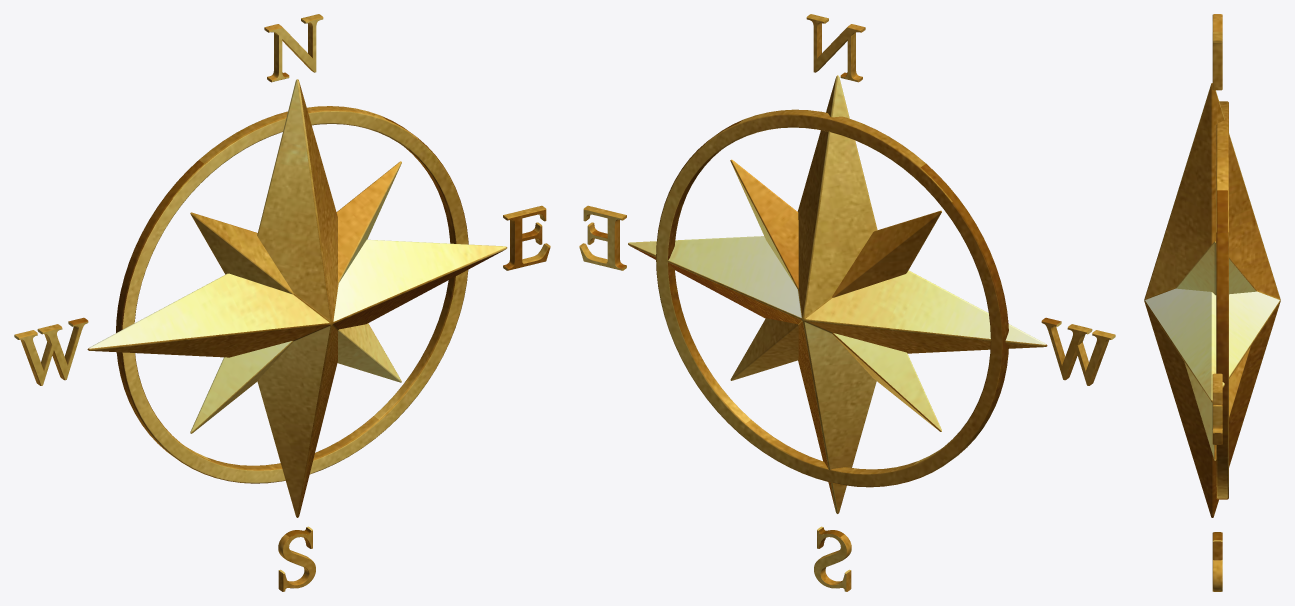
Rendered from compass.obj.
3 renders of one model, left to right at view 1: azimuth 30°, elevation 25°; view 2: azimuth 150°, elevation 25°; view 3: azimuth 270°, elevation 25°, orthographic.
Visible parts, largest first — view 1: Compass_Rose; view 2: Compass_Rose; view 3: Compass_Rose.
Boxes of the visible parts, x1,y1,x2,y2 form: Compass_Rose: (14,14,550,591); Compass_Rose: (579,14,1115,591); Compass_Rose: (1144,14,1280,591).
Bounding box in the file's own units: 29.97 × 30.41 × 6.69.
